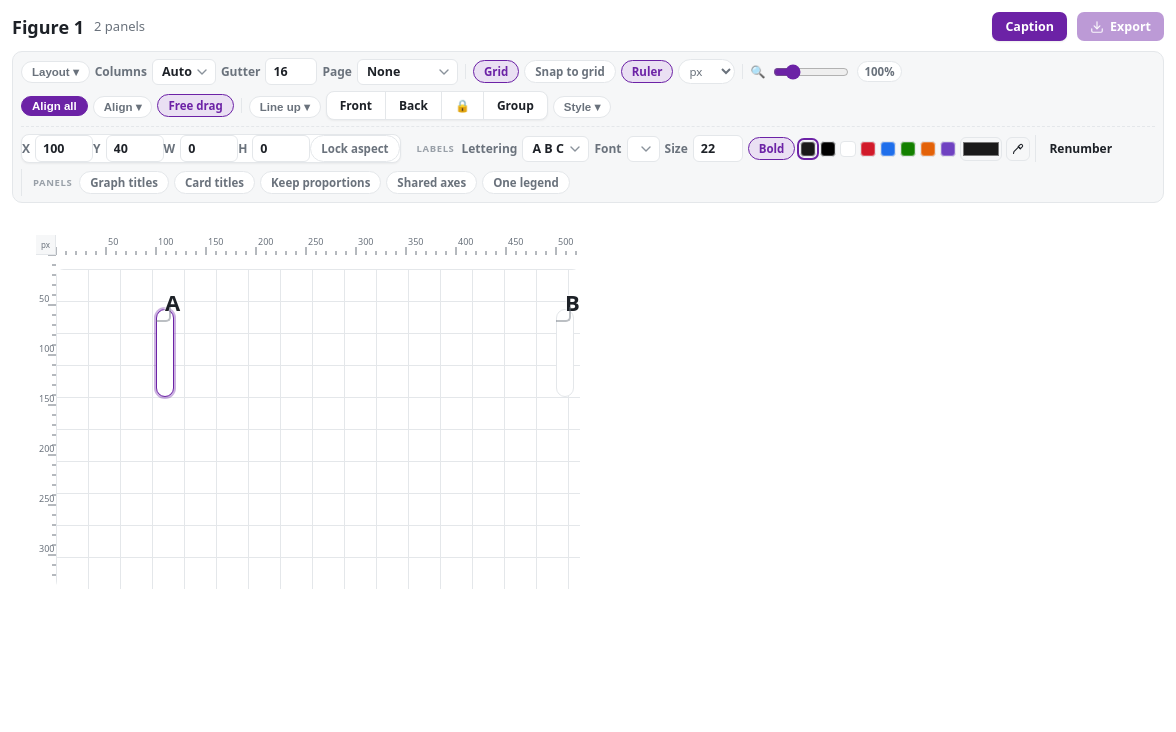
Test: a selected panel › is hidden with two panels selected, and with none
Press the mouse on the element with class "laypanel" showing "A" at coordinates (165, 353), box [156,309,174,397]
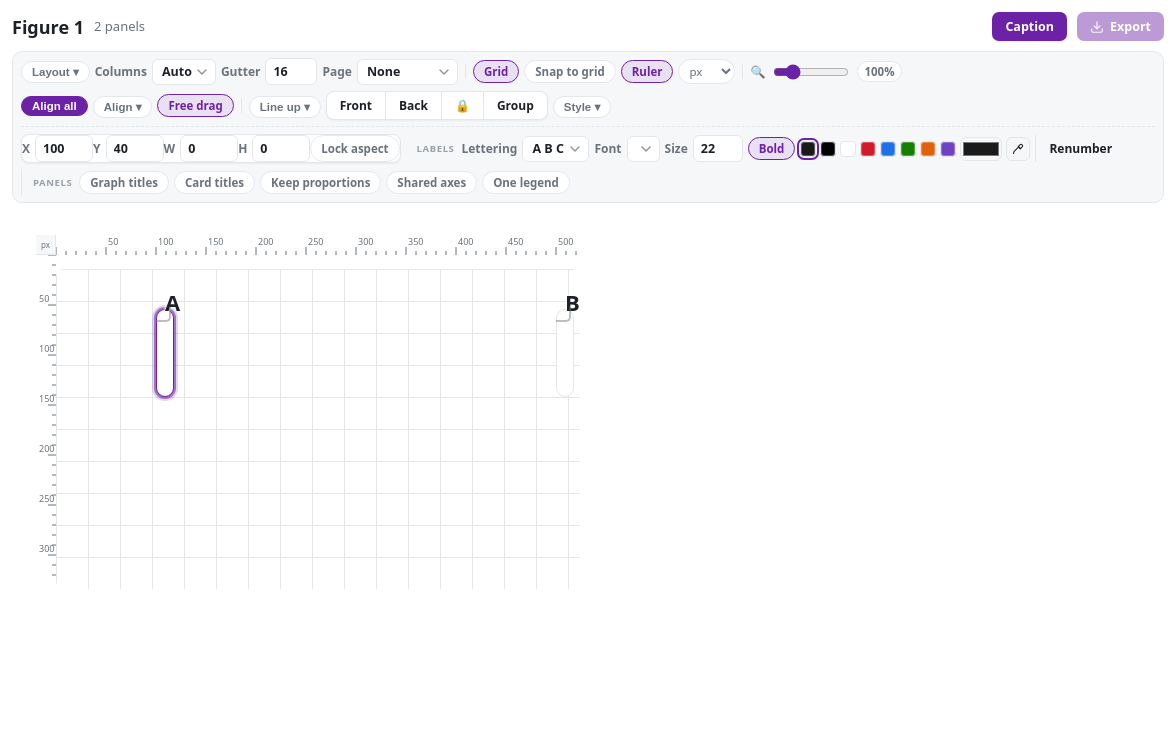
Press the mouse on the element with class "laypanel" showing "B" at coordinates (565, 353), box [556,309,574,397]
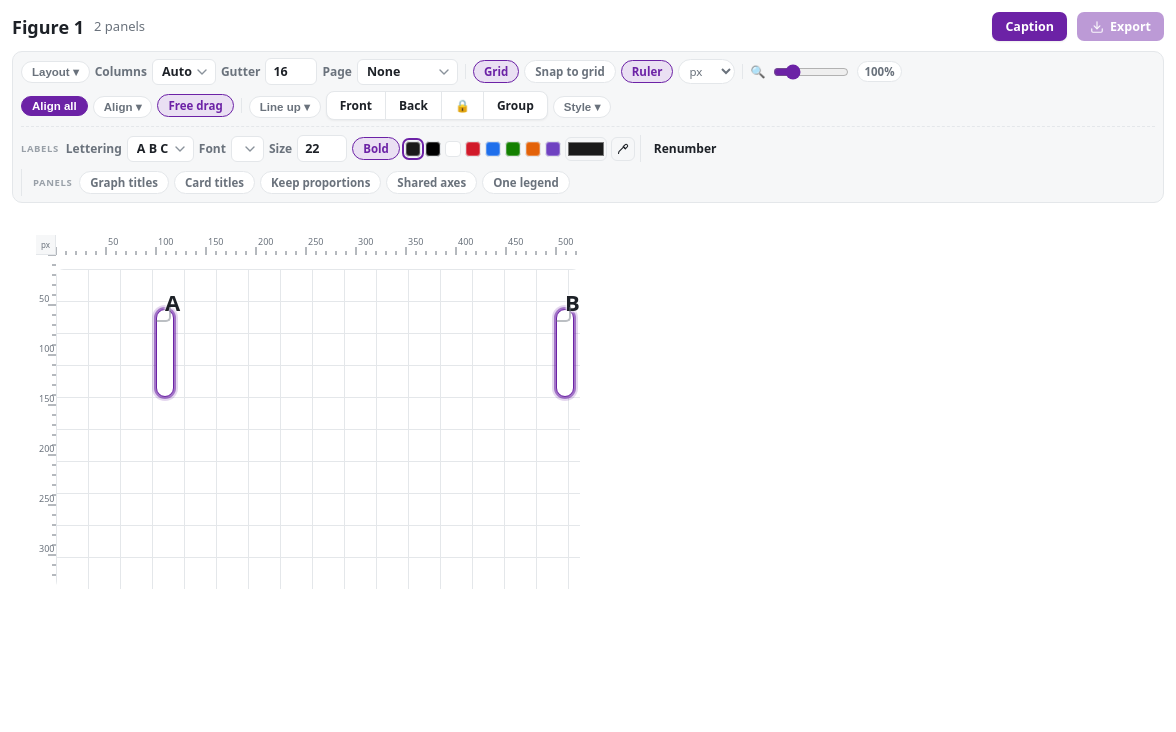
Expected: the element with class "layfields" is gone
